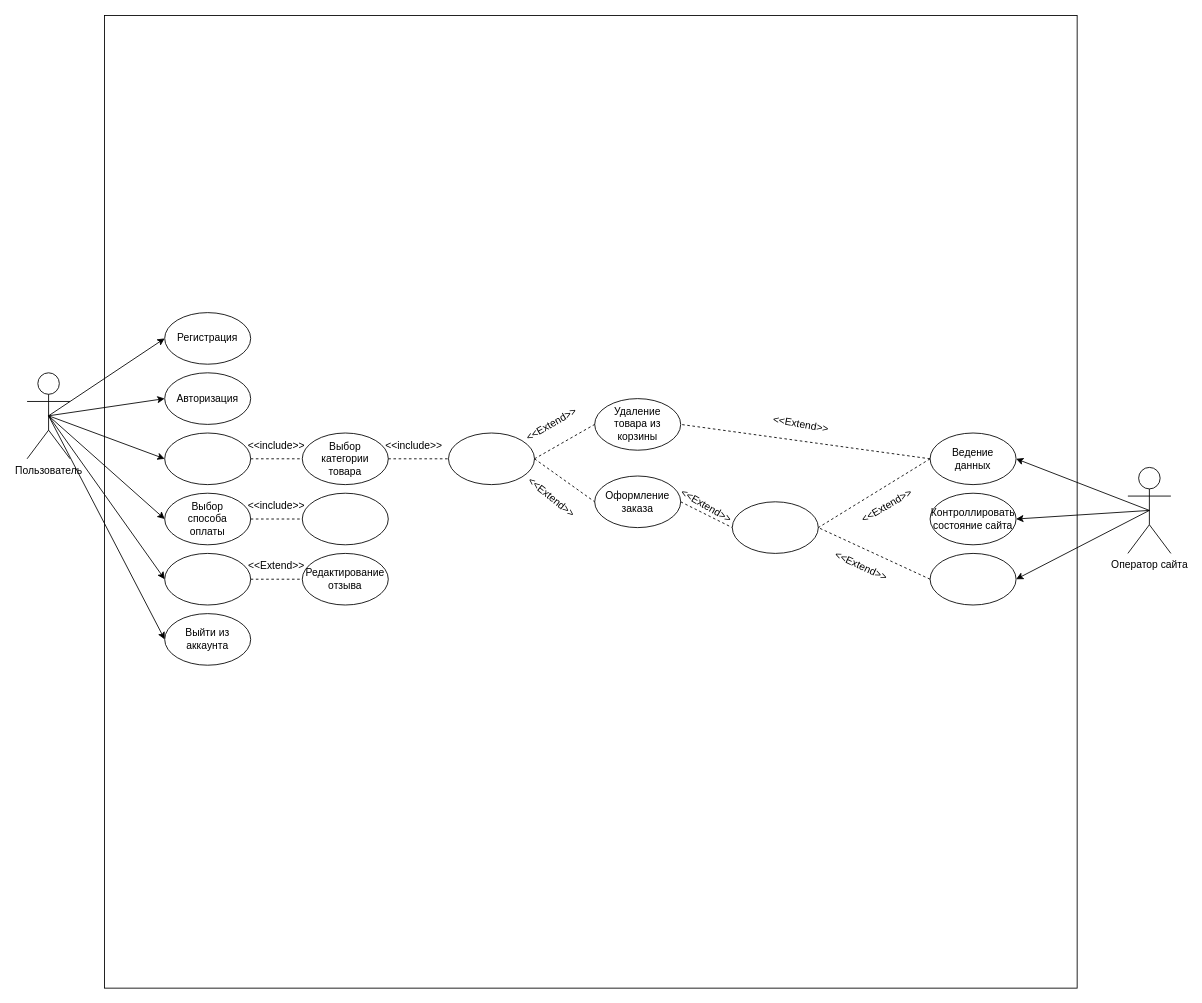
The diagram is 1202 pixels wide and 1003 high, and some of its shapes have lost their labels. Here are the shapes that lost their labels. From the top down, the centre of each, then its label:
(207,458): Выбор товара
(491,458): Добавление товара в корзину
(344,518): Оплата товара
(774,527): Отмена заказа
(207,579): Написать отзыв о товаре
(972,579): Изменять статус заказов
